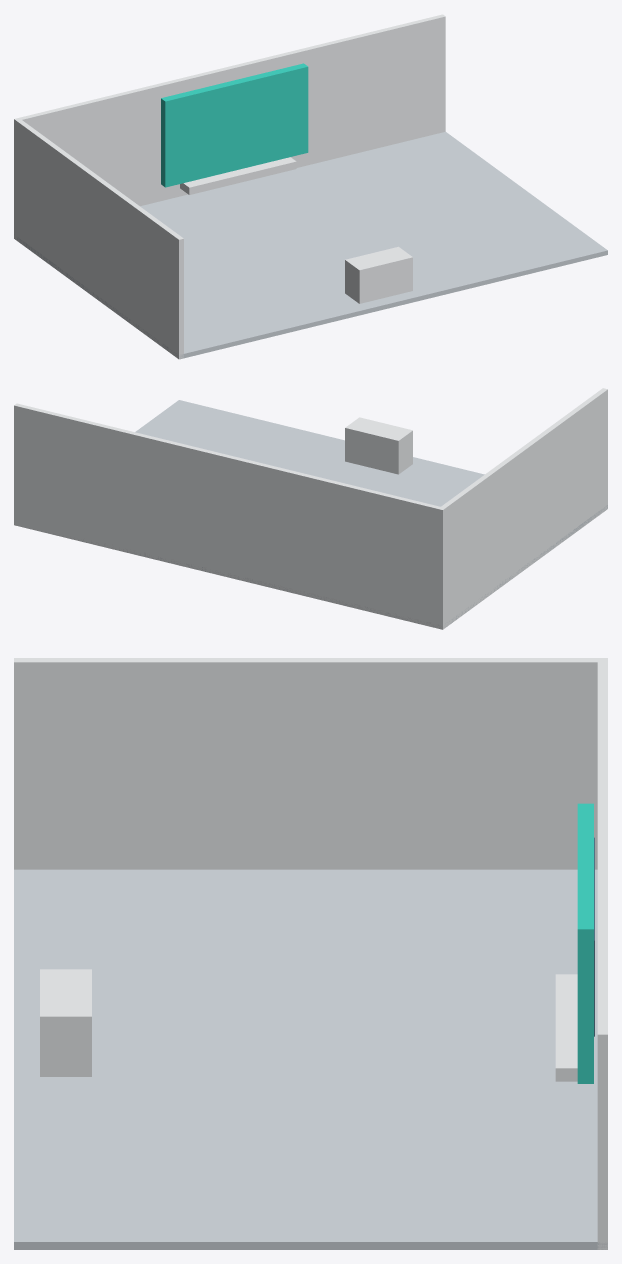
3 views of the same model, one above another, from view 1: azimuth 30°, elevation 25°; view 2: azimuth 150°, elevation 25°; view 3: azimuth 270°, elevation 25° (orthographic). The views are drawn at different scales.
Parts seen in each view (by area): view 1: Exhibition Booth Concept; view 2: Exhibition Booth Concept; view 3: Exhibition Booth Concept.
Part boxes in pixels (x1=…): Exhibition Booth Concept: x1=14, y1=14, x2=607, y2=359; Exhibition Booth Concept: x1=14, y1=388, x2=607, y2=629; Exhibition Booth Concept: x1=14, y1=658, x2=607, y2=1249.
Bounding box in the file's own units: 12 × 3.2 × 8.
